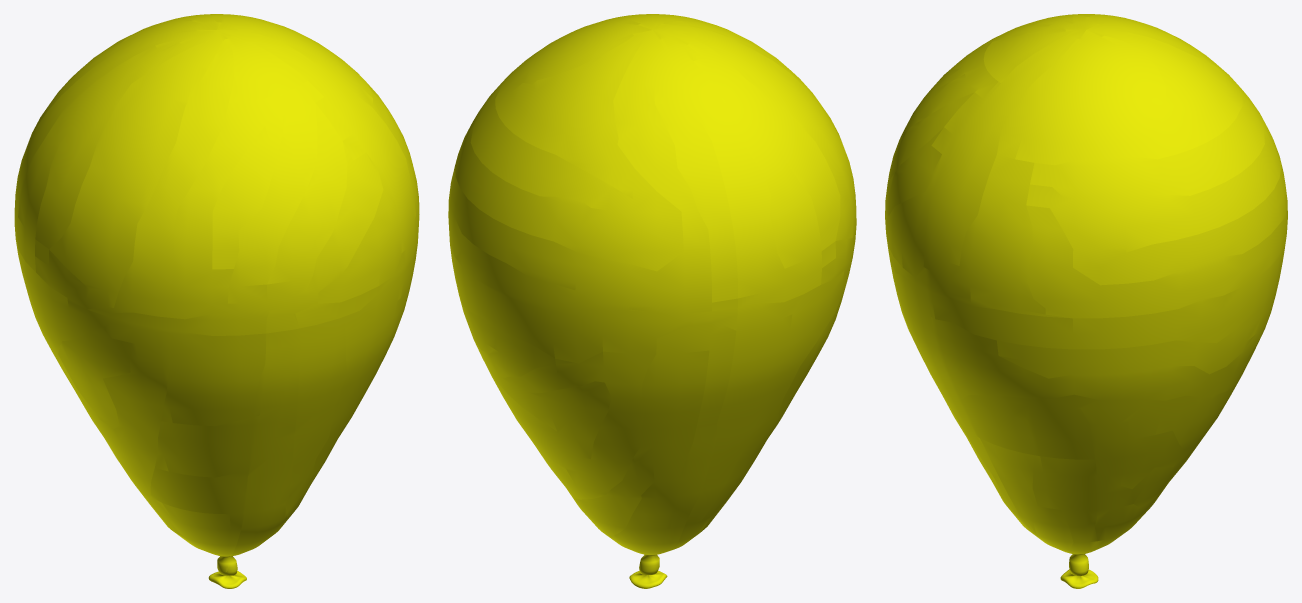
The model's file is balloon_gold.glb.
The picture shows the model from 3 angles, left to right: view 1: azimuth 30°, elevation 25°; view 2: azimuth 150°, elevation 25°; view 3: azimuth 270°, elevation 25°; orthographic projection.
Parts seen in each view (by area): view 1: Sphere; view 2: Sphere; view 3: Sphere.
Part boxes in pixels (box(x1,y1,x2,y2)): Sphere: box(14, 14, 419, 588); Sphere: box(448, 14, 856, 588); Sphere: box(885, 14, 1287, 588).
Bounding box in the file's own units: 1.91 × 2.87 × 1.91.
